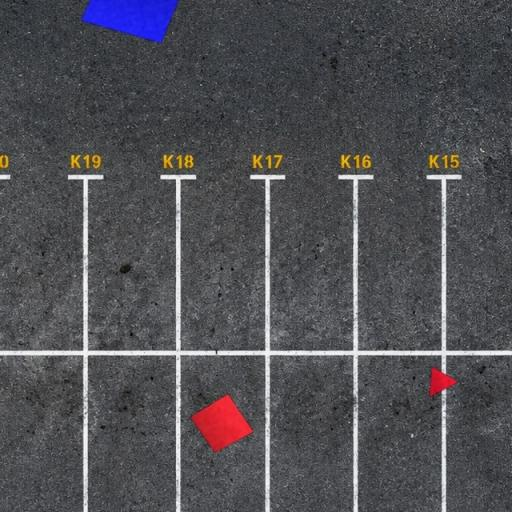BLUE_SQUARE: (80, 0, 190, 44)
RED_SQUARE: (190, 394, 254, 454)
